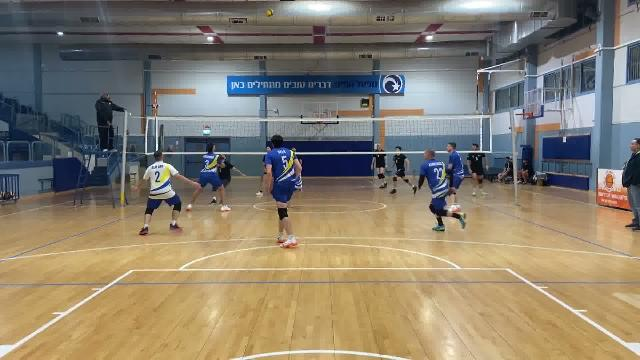ball: (265, 8, 274, 18)
